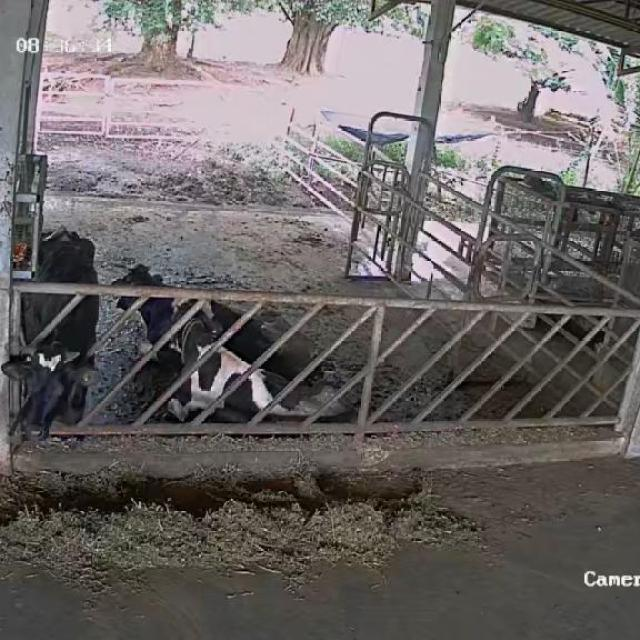feeding: (0, 228, 110, 454)
lying down: (116, 260, 326, 392), (146, 292, 346, 422)
